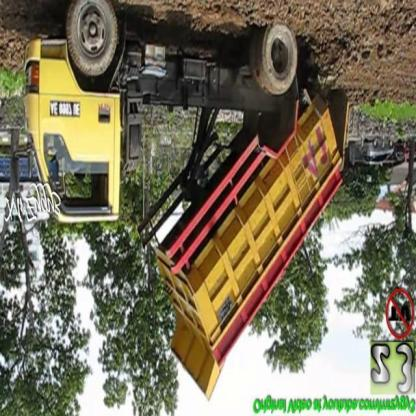truck: (25, 4, 355, 403)
